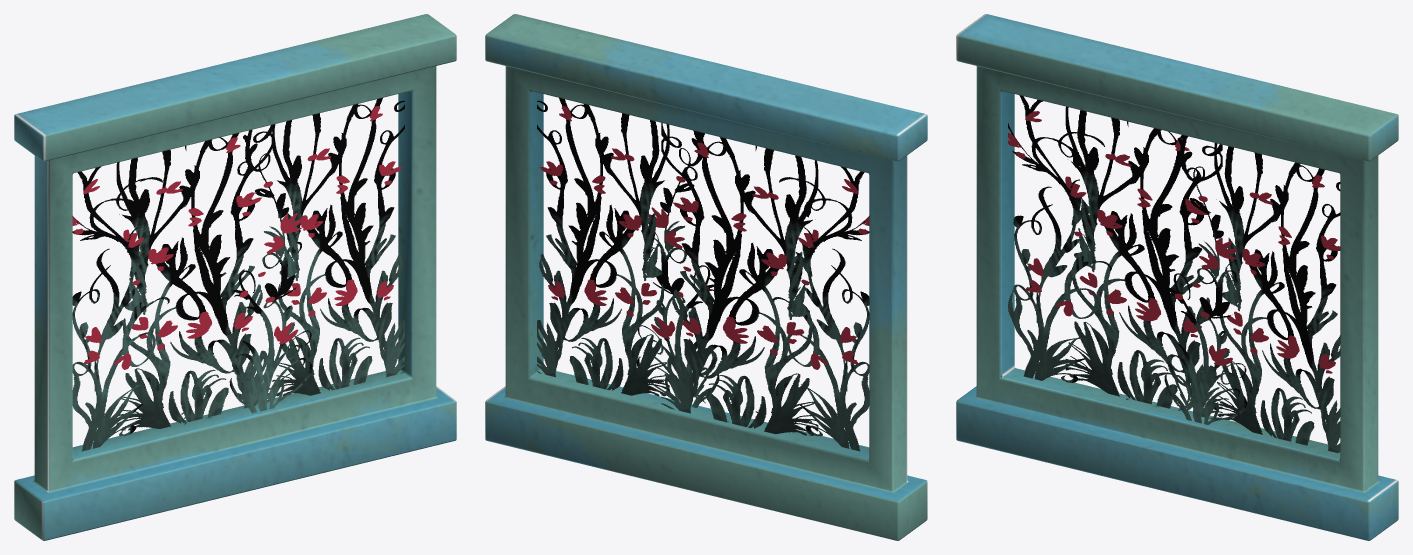
File: TOMB_WINDOW_3.obj
3 renders of one model, left to right at view 1: azimuth 30°, elevation 25°; view 2: azimuth 150°, elevation 25°; view 3: azimuth 330°, elevation 25°, orthographic.
Visible parts, largest first — view 1: TOMB_WINDOW_3.001; view 2: TOMB_WINDOW_3.001; view 3: TOMB_WINDOW_3.001.
Boxes of the visible parts, x1,y1,x2,y2 form: TOMB_WINDOW_3.001: (14,14,456,540); TOMB_WINDOW_3.001: (485,14,927,540); TOMB_WINDOW_3.001: (956,14,1398,540).
Bounding box in the file's own units: 3.2 × 3 × 0.4.
Materials: 3 (3 with a texture image).
